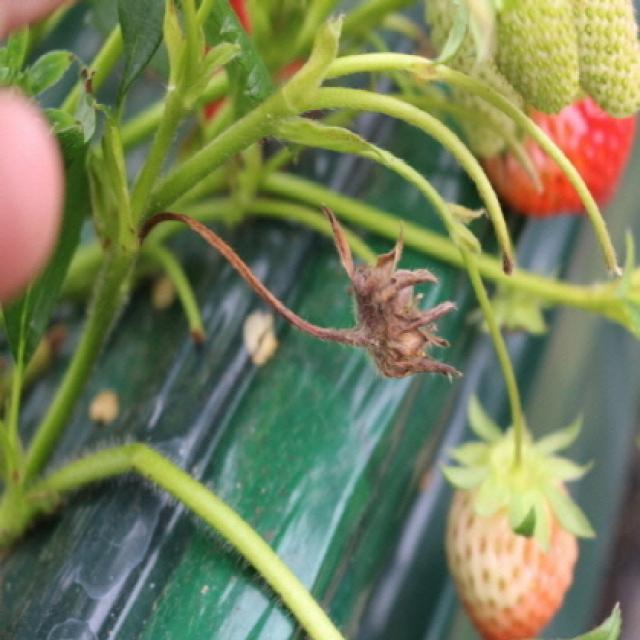Gray Mold: (281, 206, 466, 381)
